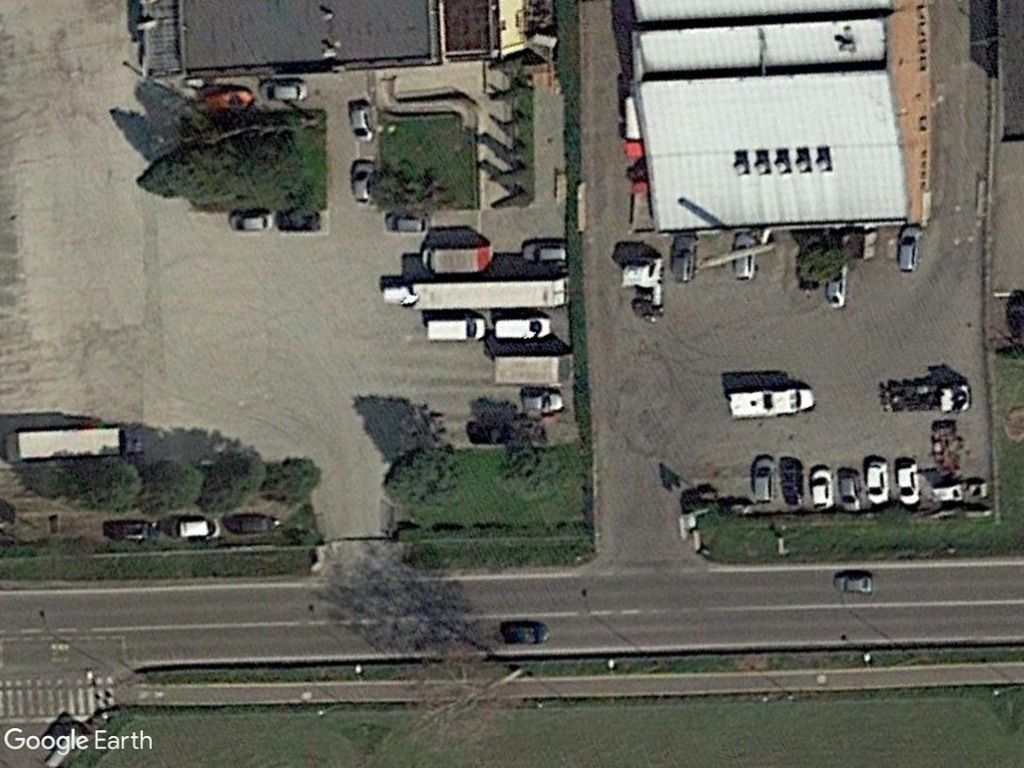car: (668, 231, 701, 289), (894, 220, 927, 277), (254, 74, 313, 105), (750, 452, 780, 508), (731, 228, 760, 284), (169, 514, 225, 543), (501, 620, 554, 650), (348, 156, 379, 207), (807, 462, 837, 514), (863, 456, 893, 507), (519, 237, 569, 267), (893, 458, 922, 509), (827, 568, 878, 597), (225, 208, 281, 234), (347, 100, 379, 144), (382, 209, 431, 237), (835, 467, 862, 517)
longvehicle: (410, 275, 573, 314), (2, 423, 153, 463), (491, 348, 580, 390)
other: (878, 380, 978, 420)
truck: (724, 385, 819, 421), (416, 240, 499, 281)
van: (421, 315, 492, 344), (491, 312, 557, 340)
